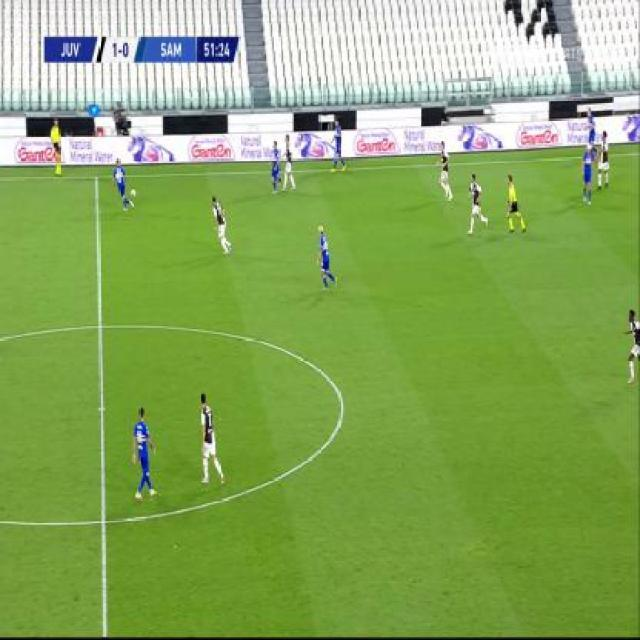ball: (129, 187, 137, 200)
player: (197, 389, 225, 489), (131, 403, 157, 502), (315, 224, 337, 292), (466, 172, 488, 237), (623, 304, 640, 386), (505, 171, 527, 234), (210, 194, 232, 254), (437, 139, 454, 202), (112, 160, 132, 213), (596, 128, 612, 188), (330, 117, 347, 173), (281, 133, 297, 190), (581, 141, 595, 204), (50, 118, 64, 177), (270, 138, 283, 194), (585, 107, 598, 153)
